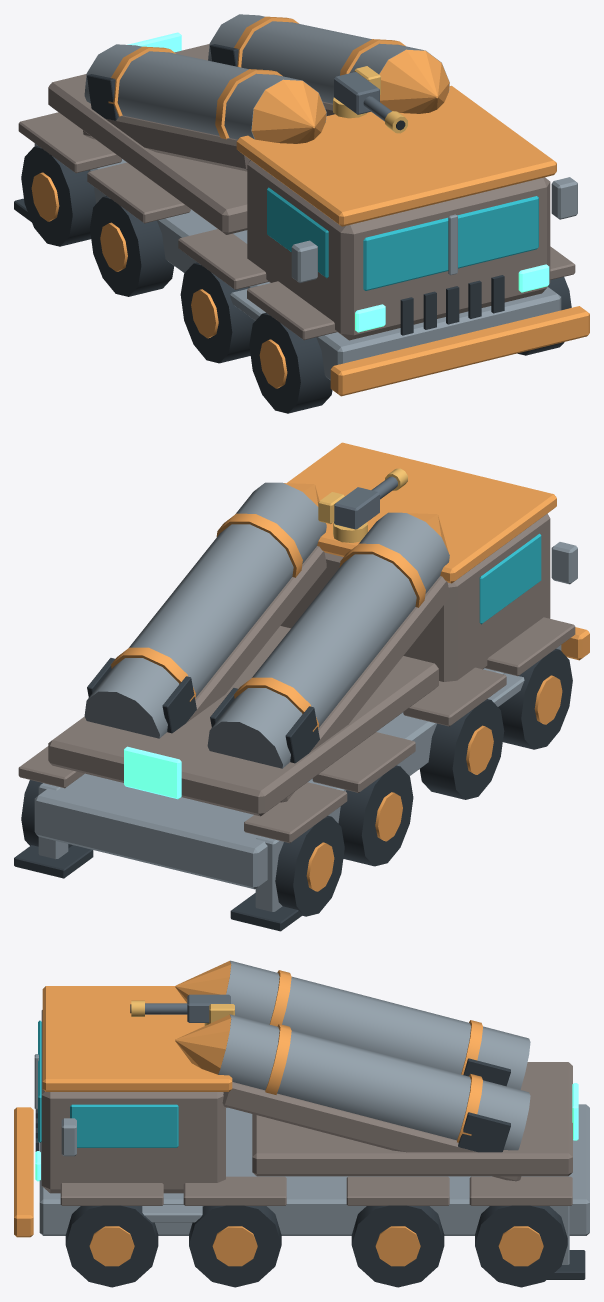
Rendered from boss-missile-truck.glb.
The picture shows the model from 3 angles, top to bottom: view 1: azimuth 30°, elevation 25°; view 2: azimuth 150°, elevation 25°; view 3: azimuth 270°, elevation 25°; orthographic projection. The views are drawn at different scales.
Visible parts, largest first — view 1: Cab roof, Armored cab, Radiator grille, Split windshield, Truck chassis, Missile casing, Launch deck, Missile casing.001, Canister band, Canister band.002, Launcher cradle, Auxiliary receiver (+4 smaller); view 2: Armored cab, Missile casing, Missile casing.001, Truck chassis, Radiator grille, Cab roof, Launch deck, Launcher cradle, Launcher cradle.001, Split windshield, Canister band, Canister band.002 (+5 smaller); view 3: Cab roof, Armored cab, Radiator grille, Missile casing.001, Launch deck, Truck chassis, Missile casing, Launcher cradle.001, Split windshield, Canister band.002, Canister band, Missile fin.002 (+3 smaller).
Part boxes in pixels (x1,y1,x2,y2): Cab roof: (31, 85, 589, 396); Armored cab: (18, 112, 575, 340); Radiator grille: (14, 146, 571, 413); Split windshield: (267, 187, 538, 290); Truck chassis: (34, 143, 577, 379); Missile casing: (84, 44, 326, 139); Launch deck: (48, 44, 247, 234); Missile casing.001: (208, 14, 449, 103); Canister band: (108, 46, 326, 143); Canister band.002: (234, 16, 449, 113); Launcher cradle: (83, 115, 250, 171); Auxiliary receiver: (334, 72, 391, 121); Armored cab: (18, 513, 575, 842); Missile casing: (207, 512, 449, 768); Missile casing.001: (84, 482, 326, 738); Truck chassis: (34, 542, 577, 911); Radiator grille: (14, 649, 572, 931); Cab roof: (287, 442, 589, 891); Launch deck: (48, 626, 438, 816); Launcher cradle: (280, 576, 450, 802); Launcher cradle.001: (186, 546, 326, 722); Split windshield: (479, 533, 541, 624); Canister band: (234, 513, 448, 731); Canister band.002: (111, 483, 319, 701); Cab roof: (14, 986, 543, 1266); Armored cab: (41, 1010, 572, 1205); Radiator grille: (35, 1109, 585, 1287); Missile casing.001: (218, 1014, 530, 1150); Launch deck: (252, 1062, 572, 1176); Truck chassis: (34, 1054, 589, 1264); Missile casing: (226, 960, 530, 1089); Launcher cradle.001: (222, 1082, 521, 1181); Split windshield: (38, 1020, 178, 1147); Canister band.002: (175, 1014, 482, 1142); Canister band: (175, 961, 482, 1074); Missile fin.002: (458, 1112, 510, 1152).
Bounding box in the file's own units: 4.01 × 3.61 × 7.95.
